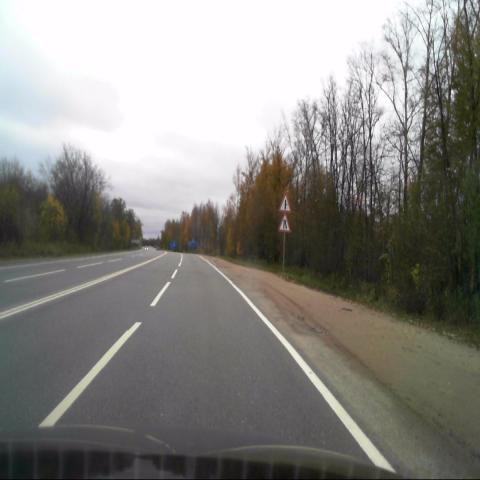1_20_2: (278, 213, 291, 232)
